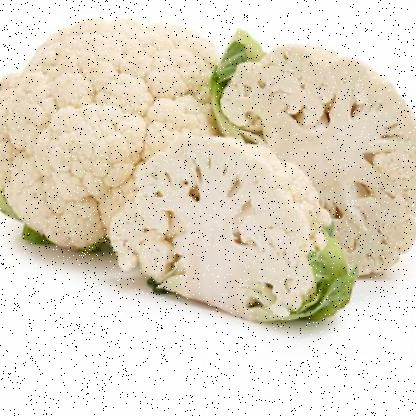cauliflower: (0, 13, 415, 313)
